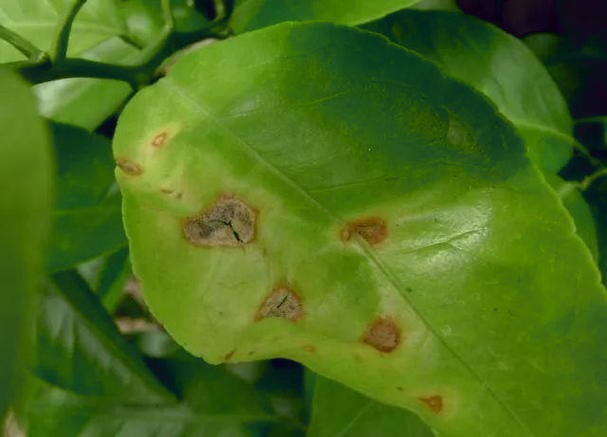Anthracnose: (181, 181, 448, 418)
